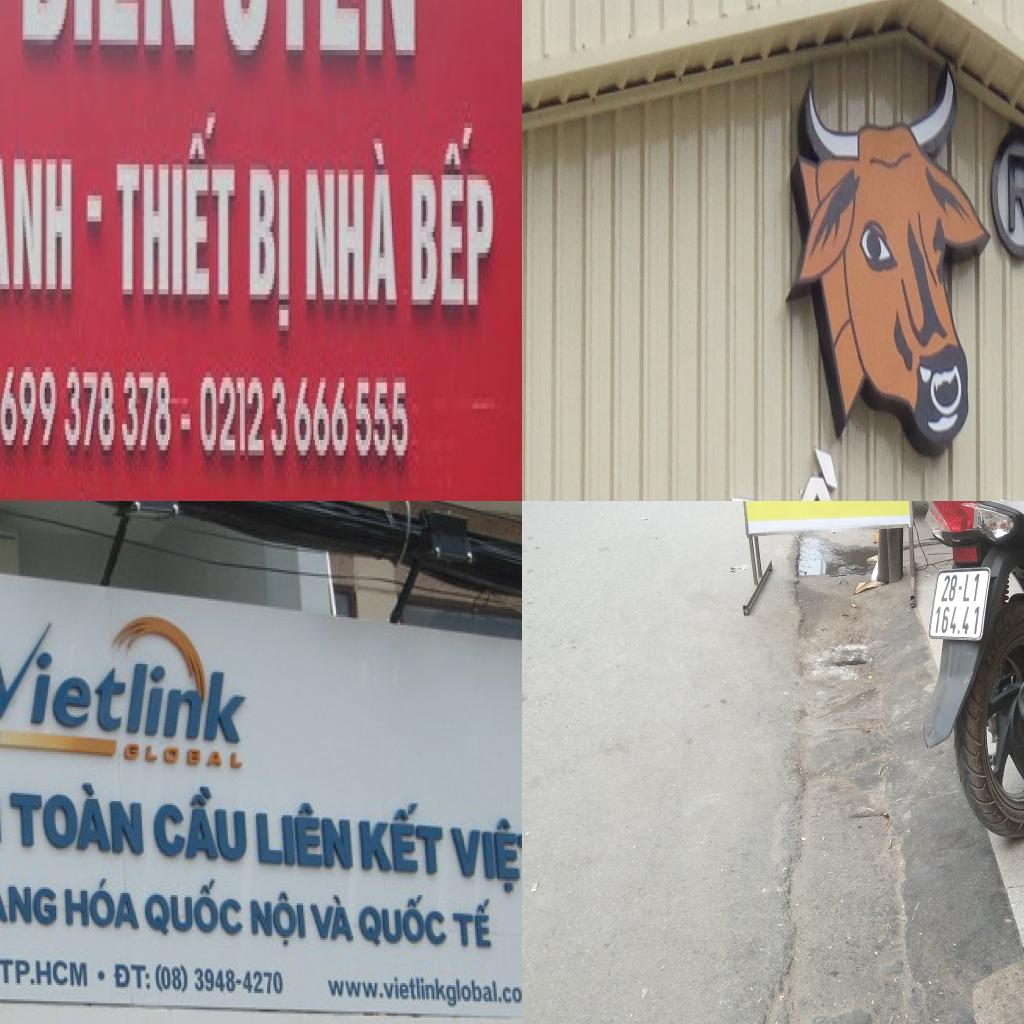text: (0, 605, 266, 750), (113, 107, 238, 310), (199, 372, 411, 466), (409, 118, 496, 315), (0, 362, 173, 461), (305, 133, 400, 310), (3, 772, 148, 864), (219, 0, 419, 65), (723, 431, 904, 501), (0, 154, 74, 304), (147, 778, 253, 868), (356, 793, 452, 883), (253, 795, 358, 877), (248, 164, 293, 336), (320, 974, 522, 1011), (442, 815, 522, 899), (139, 877, 245, 940), (353, 891, 452, 950), (155, 960, 292, 1002), (59, 874, 147, 934), (245, 885, 309, 954), (122, 740, 246, 774), (0, 864, 60, 929), (0, 956, 92, 993), (447, 895, 500, 956), (308, 893, 359, 946), (108, 958, 156, 996), (932, 604, 984, 637), (1006, 150, 1024, 239), (940, 574, 983, 603)
